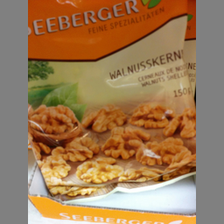nuts: (28, 1, 196, 201)
